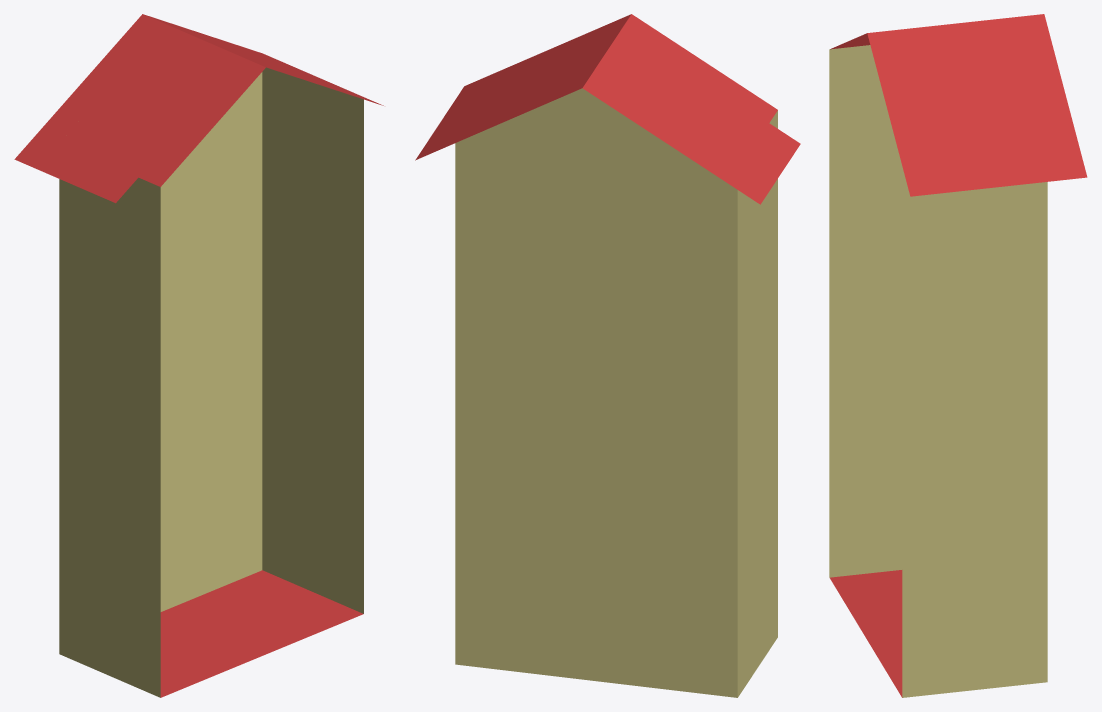
3 renders of one model, left to right at view 1: azimuth 30°, elevation 25°; view 2: azimuth 150°, elevation 25°; view 3: azimuth 270°, elevation 25°, orthographic. The views are drawn at different scales.
Size of the model in its own units: 6 by 3.93 by 10.21.
